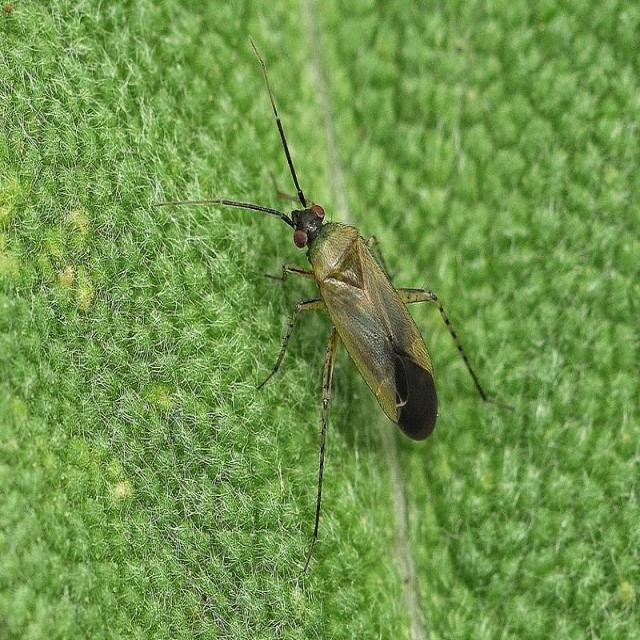Miridae-Adult-: (172, 39, 504, 548)
